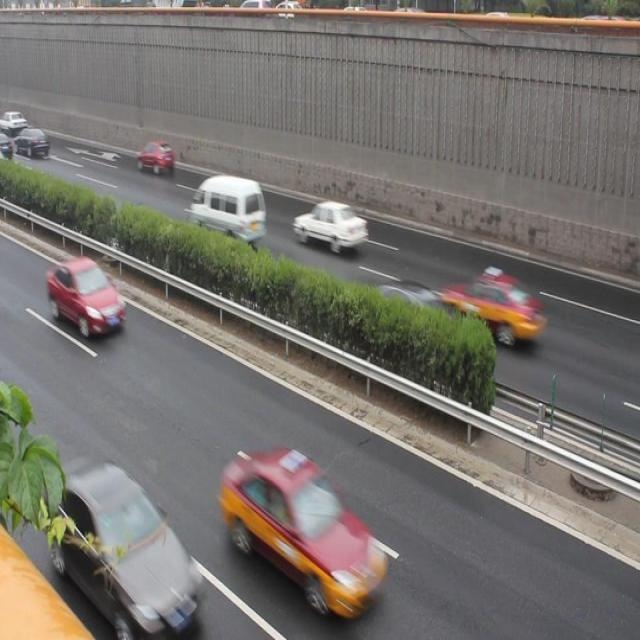car: (225, 440, 392, 624), (53, 456, 203, 630), (439, 264, 537, 348), (45, 260, 126, 336), (362, 274, 444, 342), (297, 194, 372, 252), (132, 135, 178, 178), (14, 124, 52, 159)
truck: (188, 171, 262, 250)
